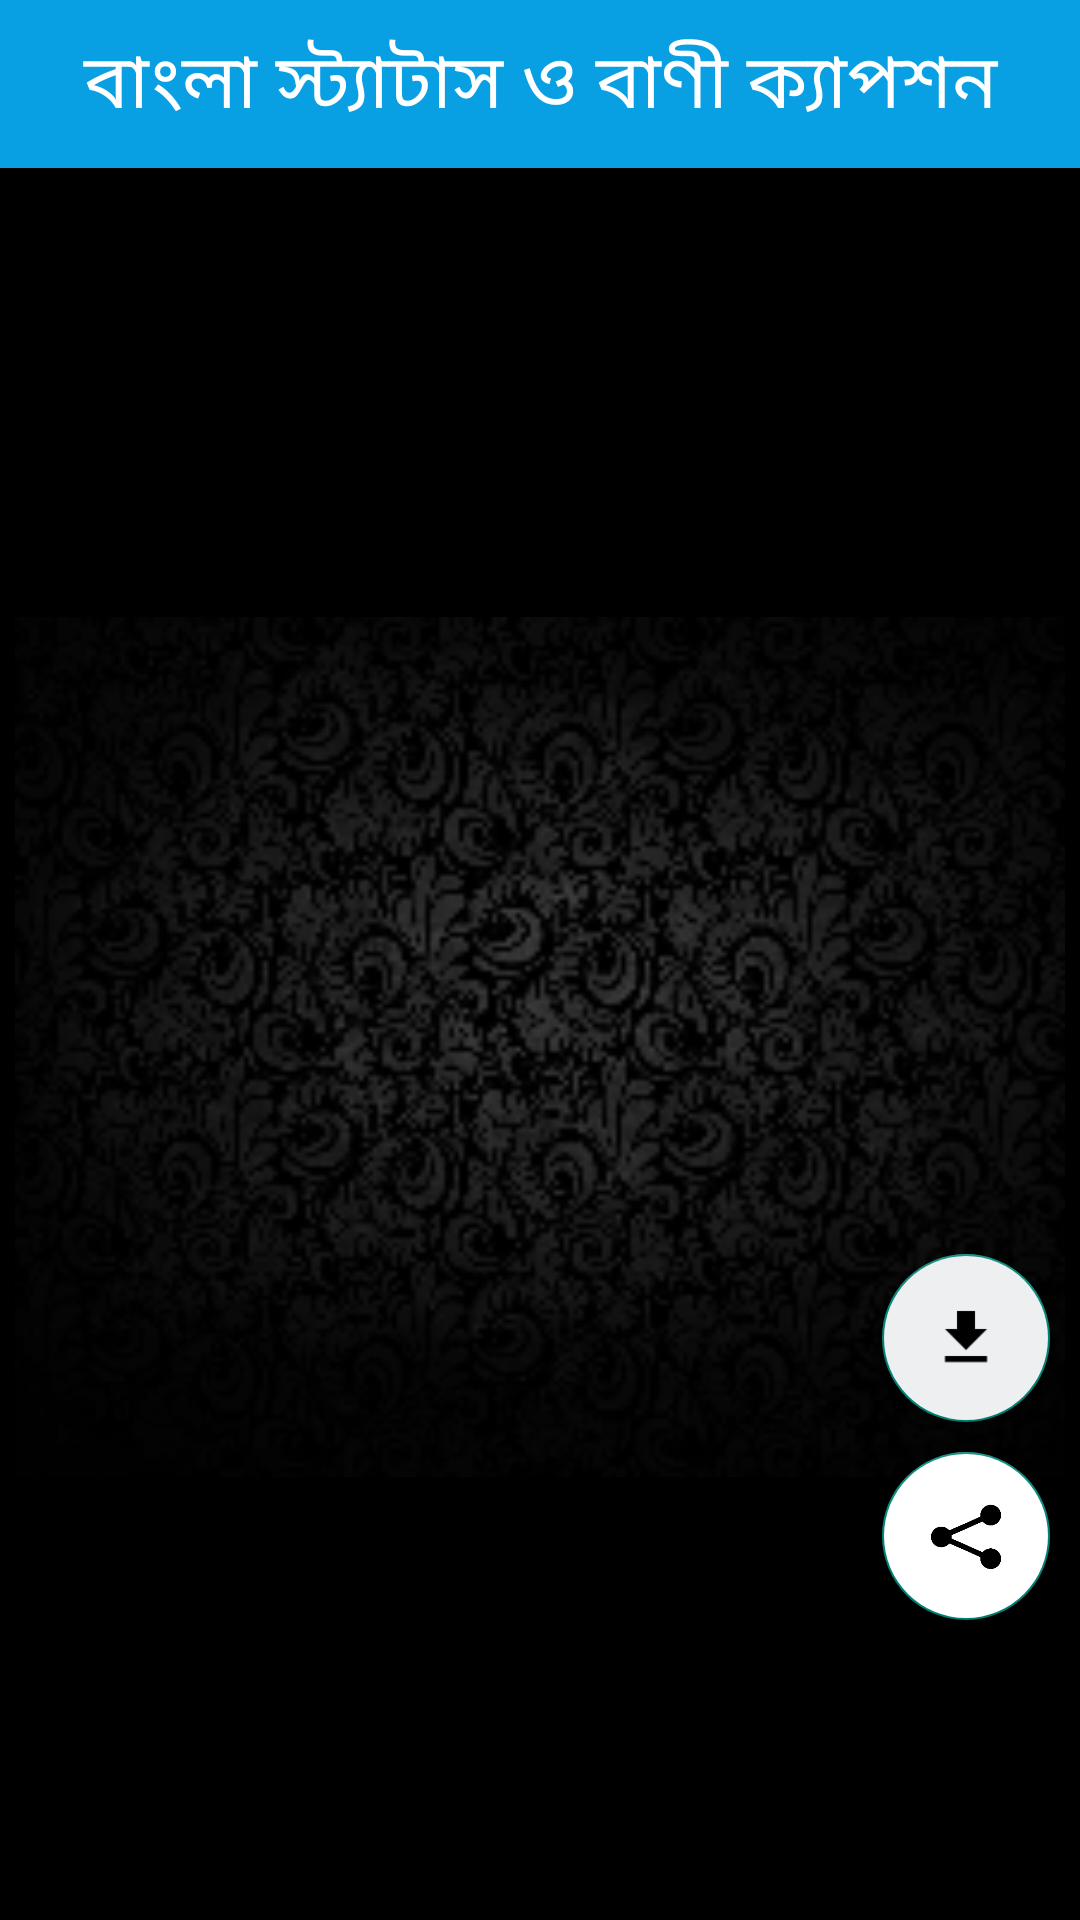

Icon bounding boxes for this 1080px×1920px phone screenshot, format (x1, y1, x2, y2):
download: (882, 1254, 1050, 1422)
share: (882, 1452, 1050, 1620)
